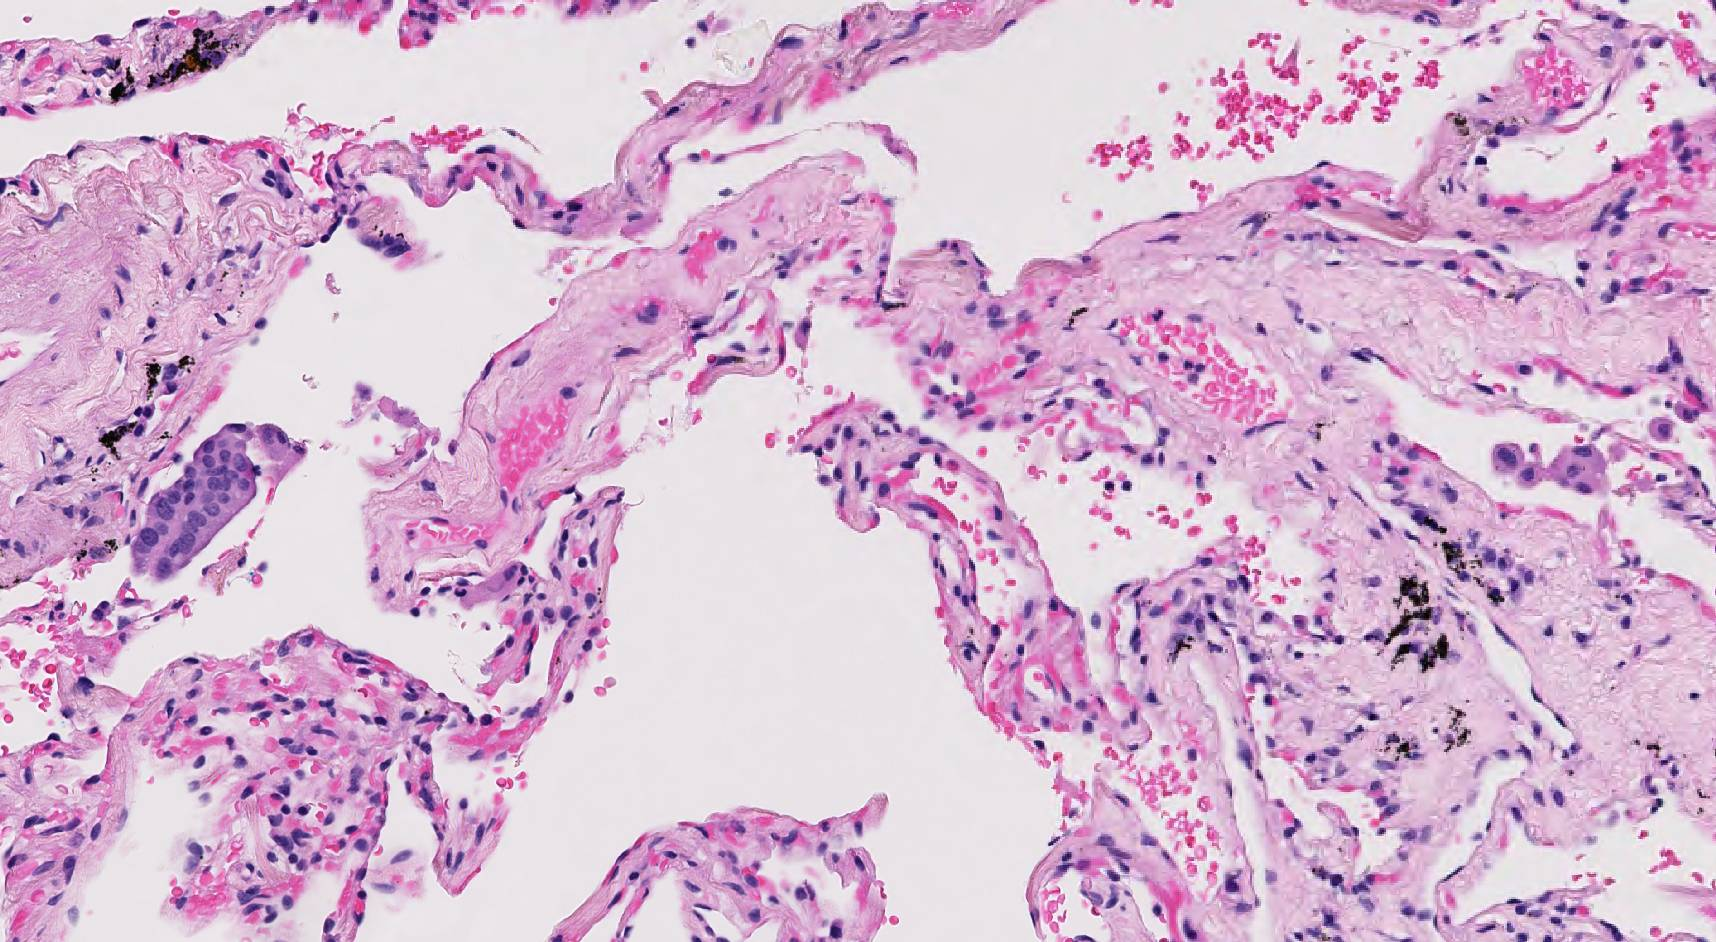stas: (129, 420, 305, 581)
